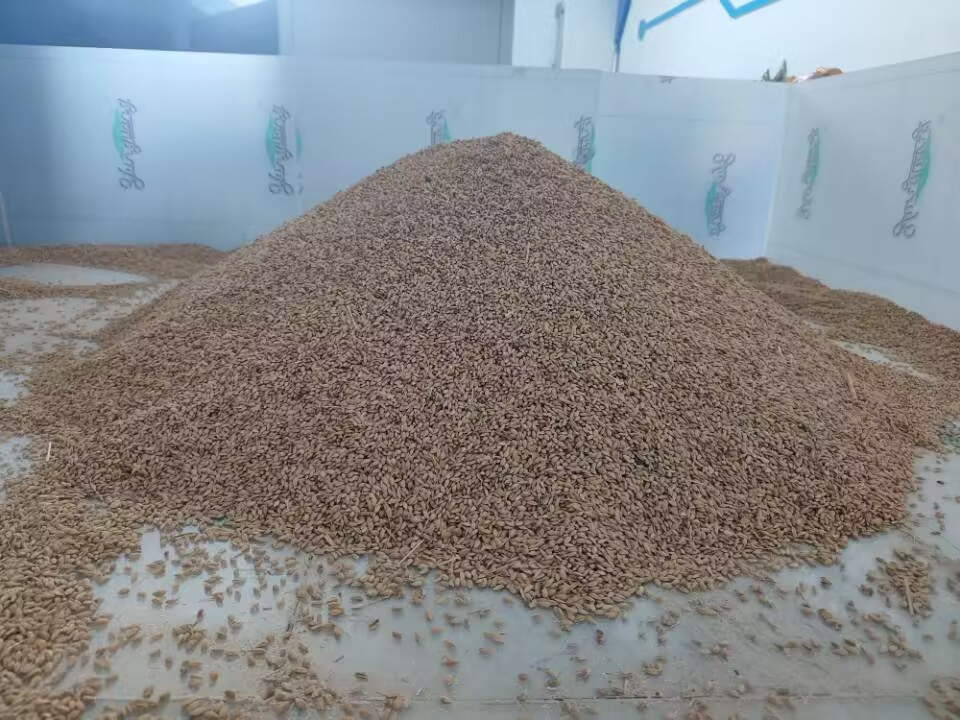Grain: (90, 115, 901, 543)
